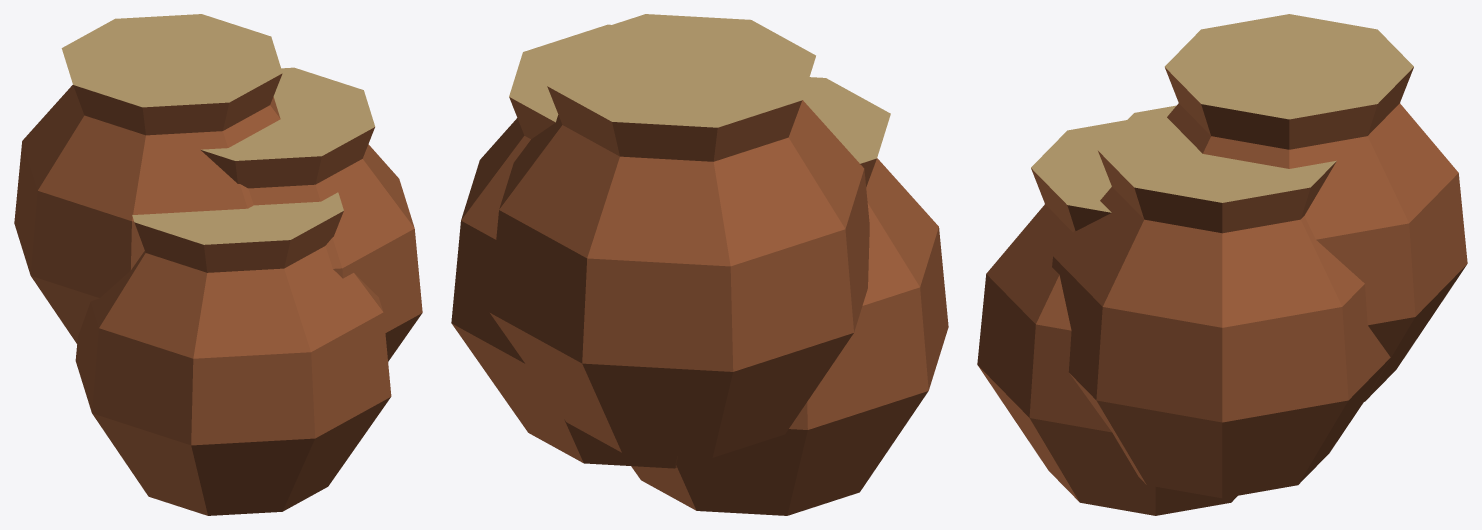
The model's file is w3d_item_porridge_m.glb.
The picture shows the model from 3 angles, left to right: view 1: azimuth 30°, elevation 25°; view 2: azimuth 150°, elevation 25°; view 3: azimuth 270°, elevation 25°; orthographic projection. The views are drawn at different scales.
Visible parts, largest first — view 1: item_023_porridge_m; view 2: item_023_porridge_m; view 3: item_023_porridge_m.
Part boxes in pixels (left/top/right/bottom): item_023_porridge_m: left=14, top=14, right=422, bottom=515; item_023_porridge_m: left=451, top=14, right=948, bottom=515; item_023_porridge_m: left=977, top=14, right=1467, bottom=515.
Bounding box in the file's own units: 0.39 × 0.4 × 0.44.
